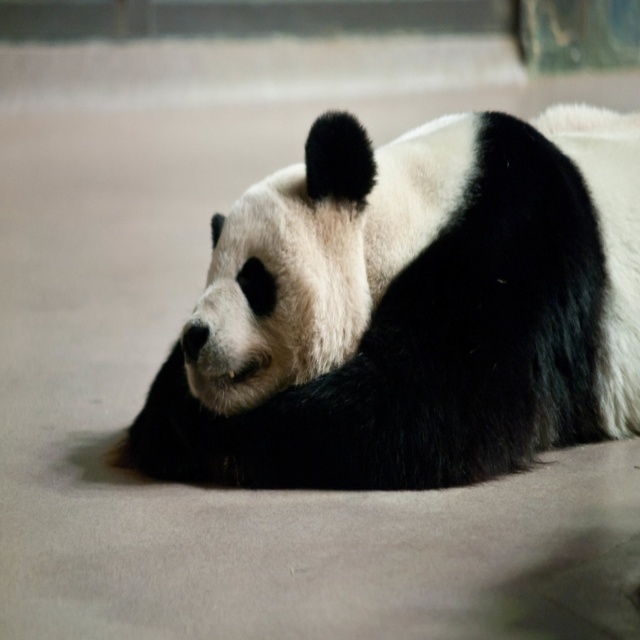Panda: (109, 101, 640, 484)
